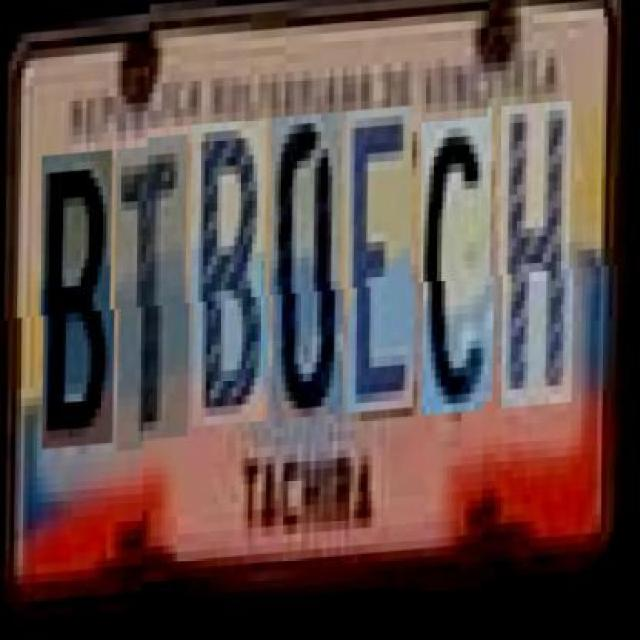0: (273, 118, 347, 425)
b: (192, 123, 272, 431), (44, 143, 118, 442)
c: (423, 125, 497, 423)
e: (348, 112, 417, 420)
h: (502, 119, 576, 427)
t: (119, 137, 192, 445)
